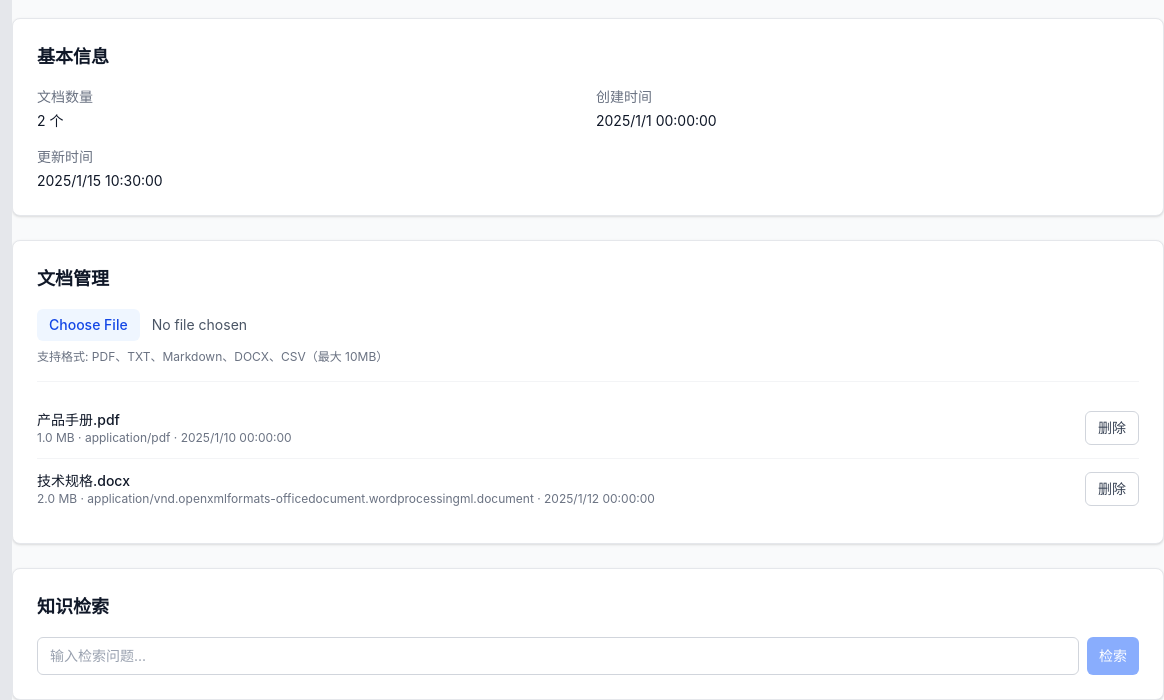
KnowledgeDetail › 应显示检索结果
(page scrolled)
Type "如何使用" into the field labelled "检索问题" at (558, 656), box x1=37 y1=637 x2=1079 y2=675
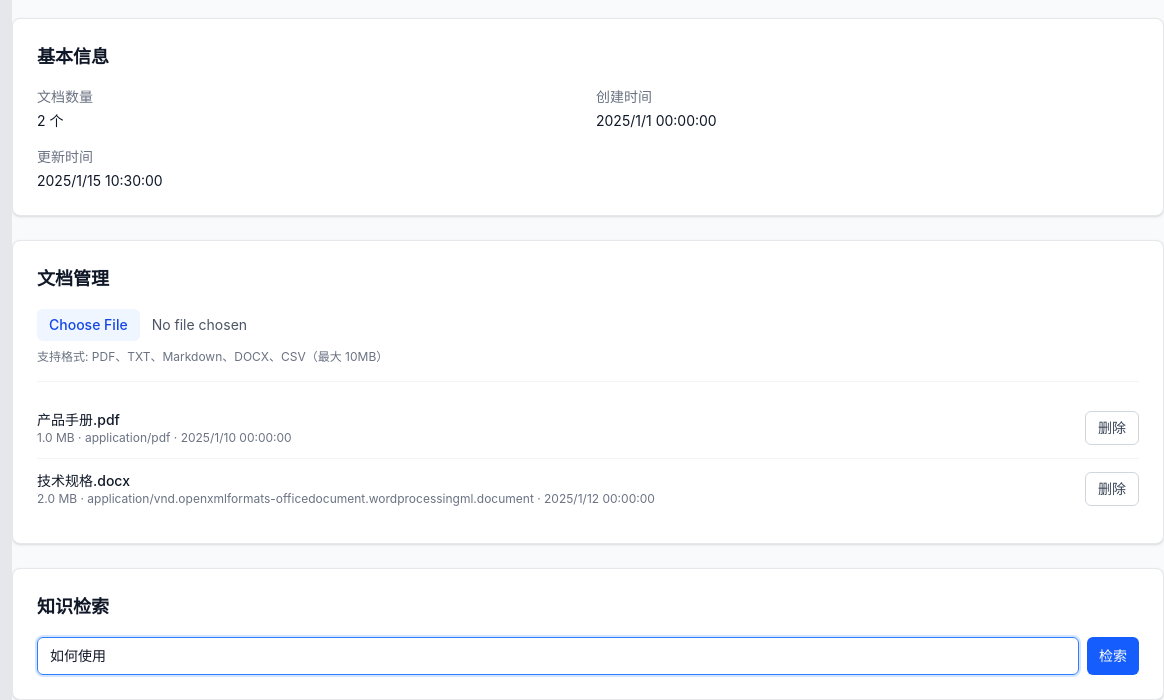
Click the button "检索" at (1113, 656), box x1=1087 y1=637 x2=1139 y2=675
(page scrolled)
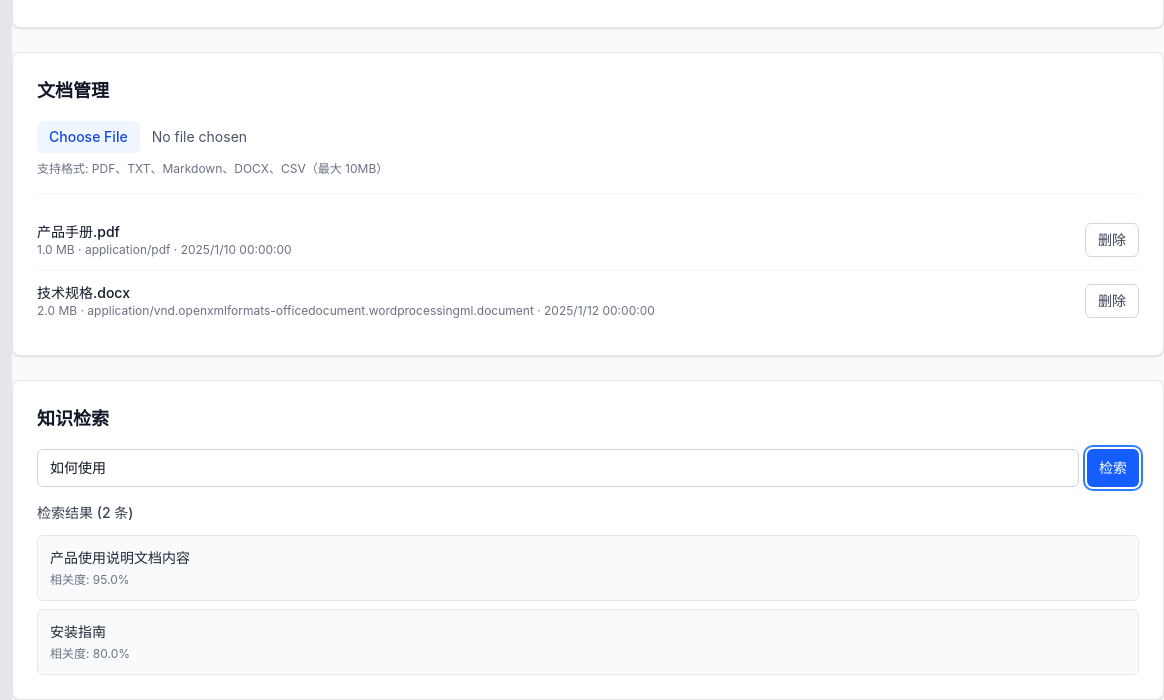
expect the text "产品使用说明文档内容" is shown: met, box x1=50 y1=549 x2=190 y2=566
expect the text "安装指南" is shown: met, box x1=50 y1=623 x2=106 y2=640
expect the heading "检索结果 (2 条)" is shown: met, box x1=37 y1=504 x2=134 y2=521
